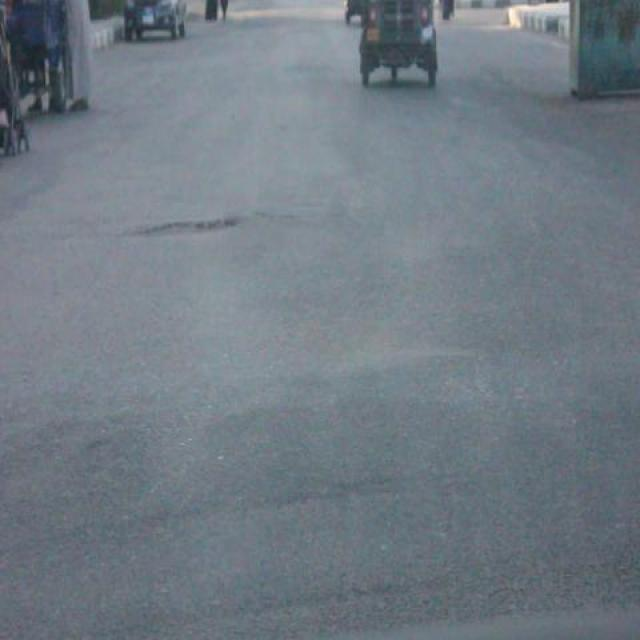Pothole: (136, 204, 264, 247)
Unmarked Bump: (0, 348, 640, 640)
